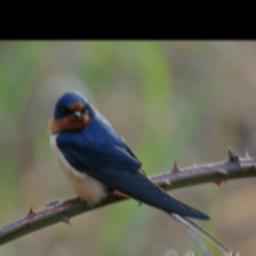Swallow: (47, 90, 241, 256)
